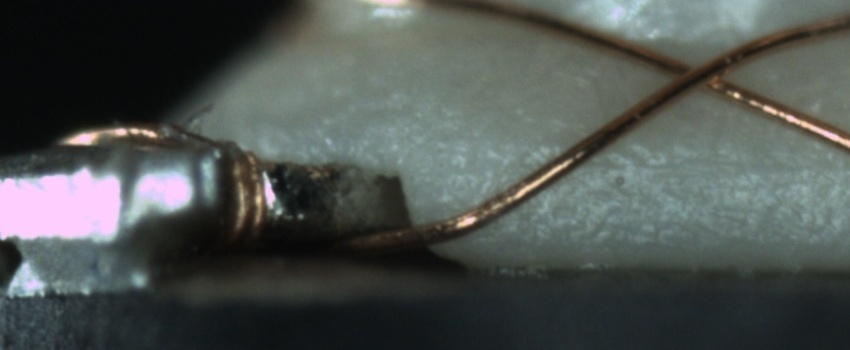CL: (654, 45, 746, 102)
DL: (583, 131, 849, 196)
TE: (48, 114, 283, 248)
